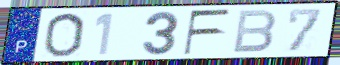1: (94, 12, 115, 56)
3: (141, 10, 180, 57)
7: (286, 8, 323, 54)
B: (230, 9, 278, 55)
F: (182, 8, 233, 57)
O: (41, 11, 87, 58)
